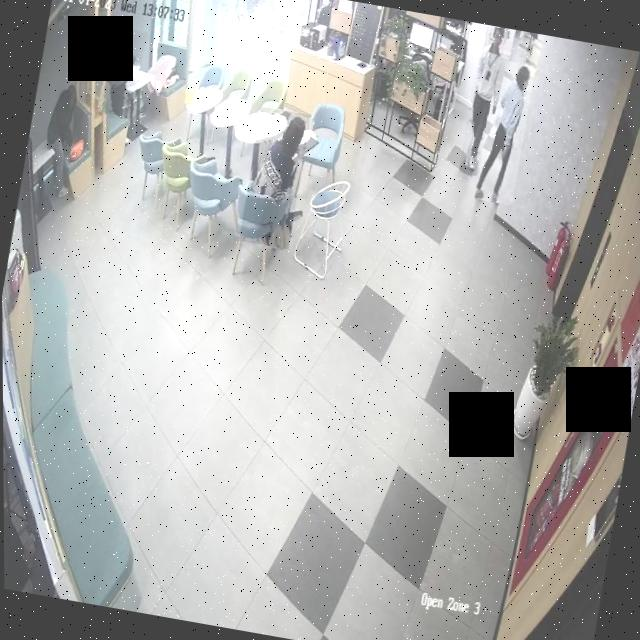person: (237, 106, 311, 249), (457, 24, 517, 178), (473, 60, 536, 206), (96, 26, 148, 120)
